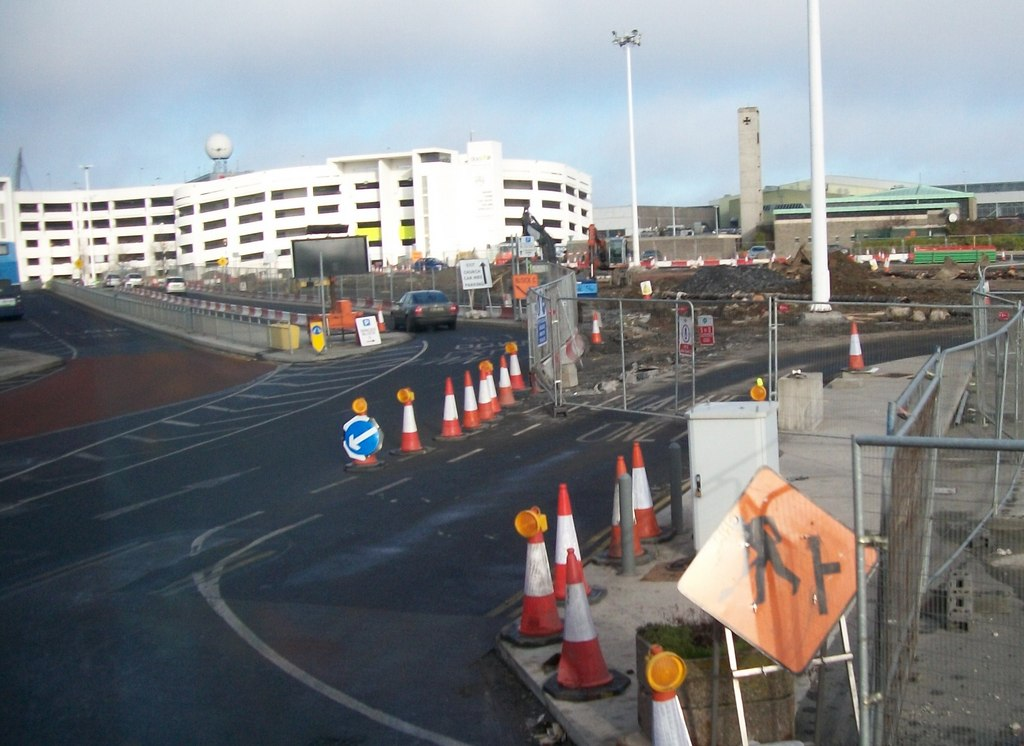cone: (535, 548, 631, 706), (525, 482, 606, 606), (498, 514, 570, 649), (595, 457, 651, 568), (619, 440, 674, 548), (382, 386, 433, 462), (428, 374, 475, 446), (473, 360, 504, 423), (454, 370, 485, 430), (497, 342, 530, 395), (839, 322, 871, 375), (491, 356, 519, 410), (582, 311, 607, 347)
